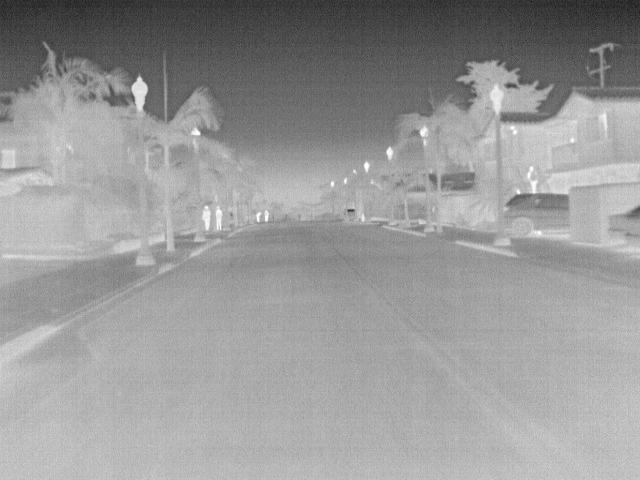car: (504, 191, 572, 238), (604, 202, 640, 250)
person: (527, 165, 540, 193), (212, 206, 224, 234), (200, 206, 212, 232), (262, 208, 271, 223), (255, 210, 264, 224)
